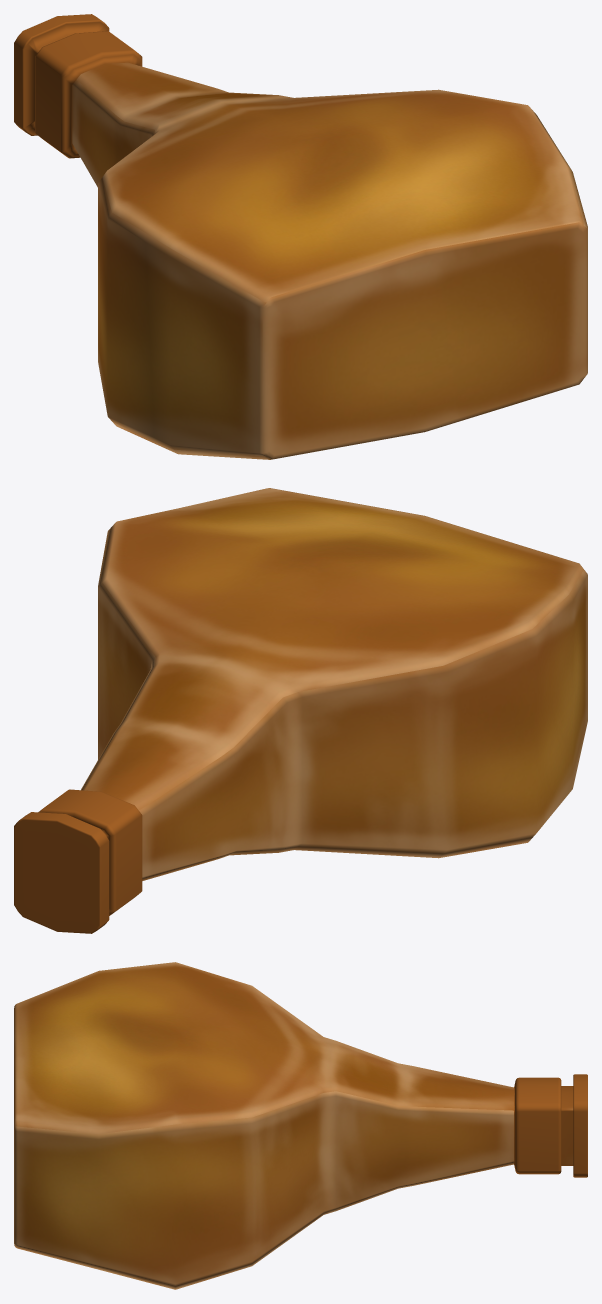
The model's file is Botella 1 Fin.FBX.
3 views of the same model, one above another, from view 1: azimuth 30°, elevation 25°; view 2: azimuth 150°, elevation 25°; view 3: azimuth 270°, elevation 25° (orthographic). The views are drawn at different scales.
Parts seen in each view (by area): view 1: Botella1; view 2: Botella1; view 3: Botella1.
Boxes of the visible parts, x1,y1,x2,y2 form: Botella1: (14,14,587,459); Botella1: (14,488,587,933); Botella1: (14,962,587,1289).
Size of the model in its own units: 14.85 by 8.2 by 22.14.
1 material, 1 textured.
